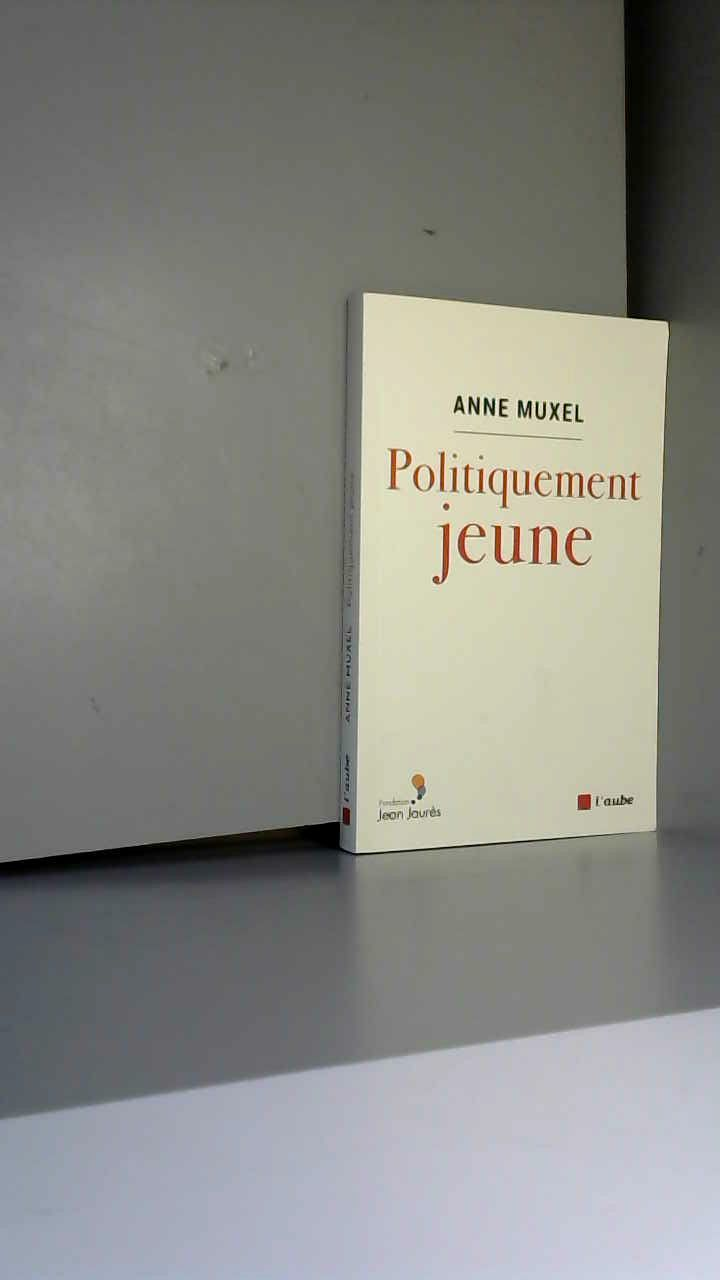book: (330, 260, 720, 877)
